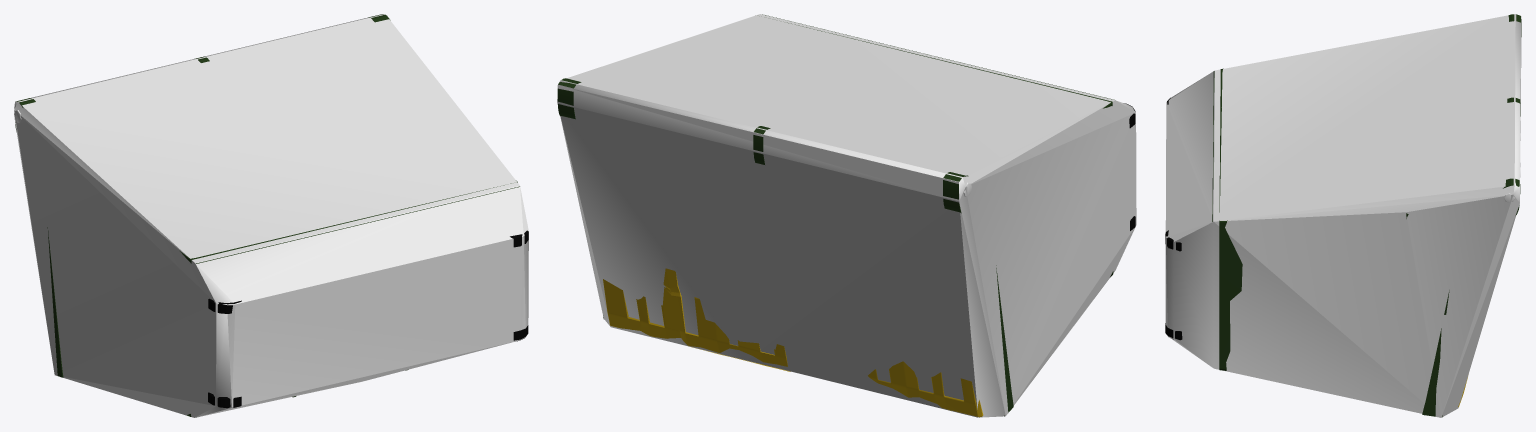
File: dumpster.fbx
The picture shows the model from 3 angles, left to right: view 1: azimuth 30°, elevation 25°; view 2: azimuth 150°, elevation 25°; view 3: azimuth 270°, elevation 25°; orthographic projection. The views are drawn at different scales.
Parts seen in each view (by area): view 1: c_dumpster, dumpster; view 2: c_dumpster, dumpster; view 3: c_dumpster, dumpster.
Part boxes in pixels (left/top/right/bottom): c_dumpster: left=14, top=14, right=528, bottom=417; dumpster: left=14, top=14, right=528, bottom=417; c_dumpster: left=557, top=14, right=1136, bottom=417; dumpster: left=557, top=14, right=1135, bottom=417; c_dumpster: left=1165, top=14, right=1521, bottom=417; dumpster: left=1165, top=14, right=1521, bottom=417.
Size of the model in its own units: 163 by 103 by 142.
